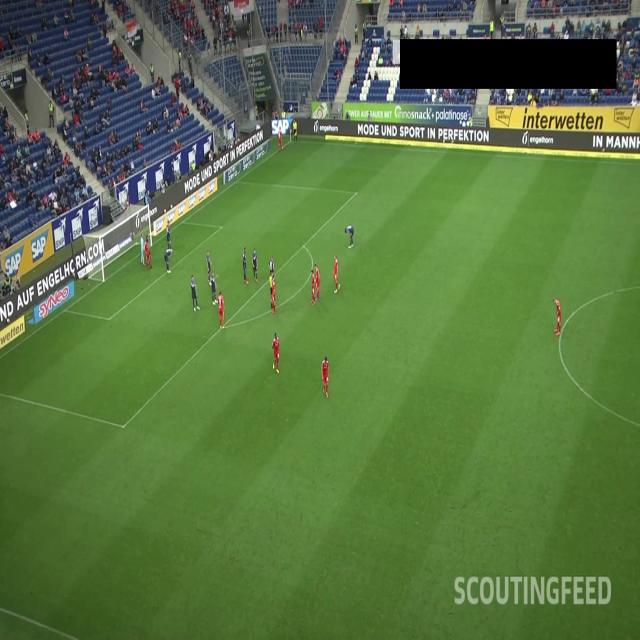ball: (281, 144, 285, 151)
player: (241, 244, 251, 286), (272, 328, 280, 377), (552, 295, 561, 338), (191, 271, 200, 313), (322, 351, 329, 397), (332, 252, 340, 292), (344, 222, 355, 250), (308, 266, 316, 303), (163, 246, 174, 270), (210, 275, 219, 304), (314, 260, 321, 297), (271, 279, 278, 313), (268, 257, 276, 285), (207, 249, 213, 286), (218, 293, 224, 329), (165, 219, 172, 248), (143, 241, 150, 268), (277, 125, 284, 152), (253, 248, 259, 279), (140, 234, 144, 263), (145, 237, 149, 263)
